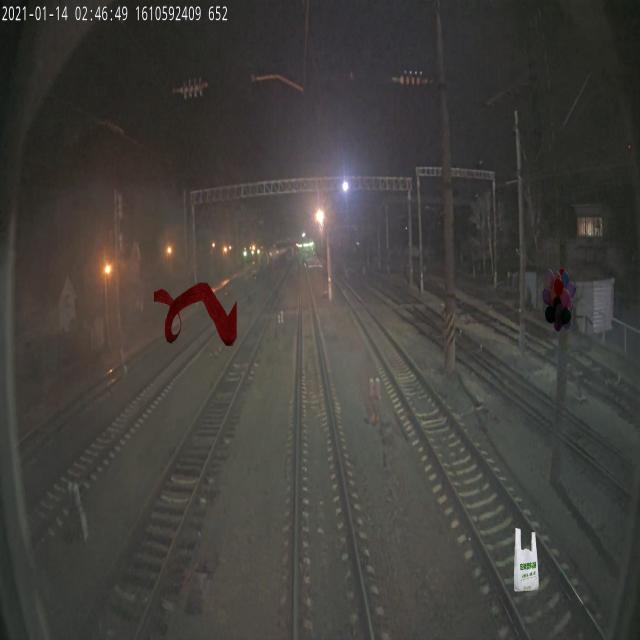balloon: (542, 268, 576, 332)
floating object: (154, 282, 238, 346)
plastic bag: (514, 528, 539, 592)
